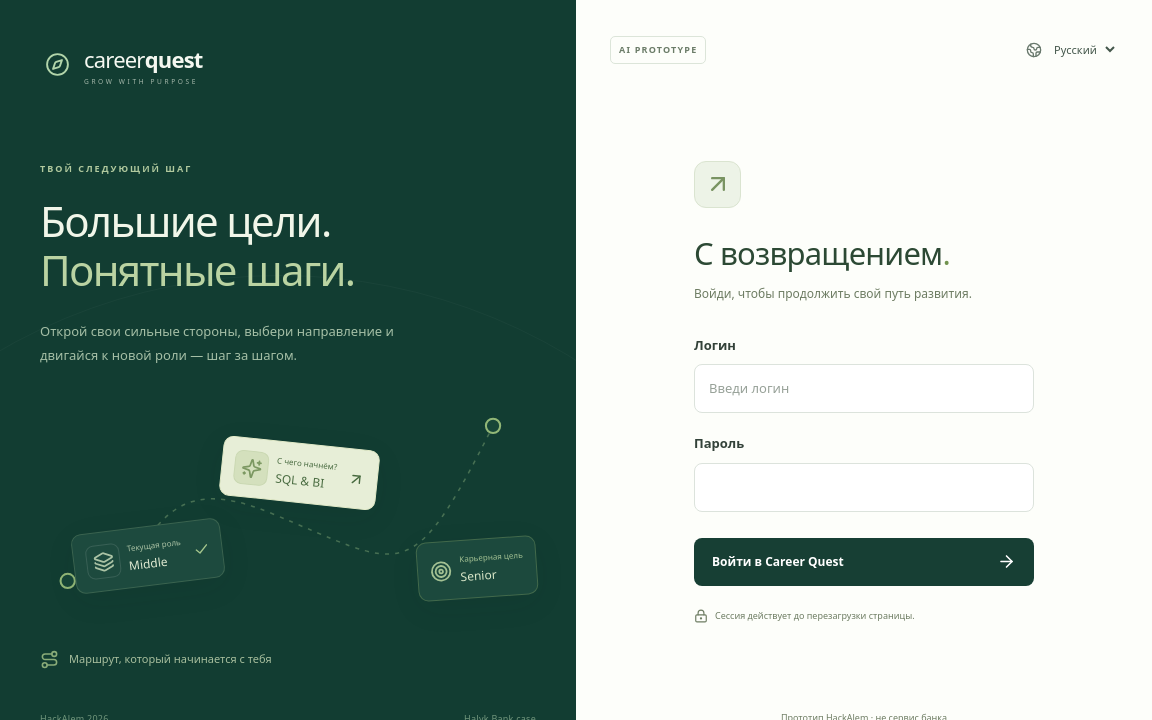
Scenario: user journeys against the HTTP boundary › shows timeout as an error without silently switching to demo mode
Type "employee" into the field labelled "Логин" at (864, 389), box [694, 364, 1034, 413]
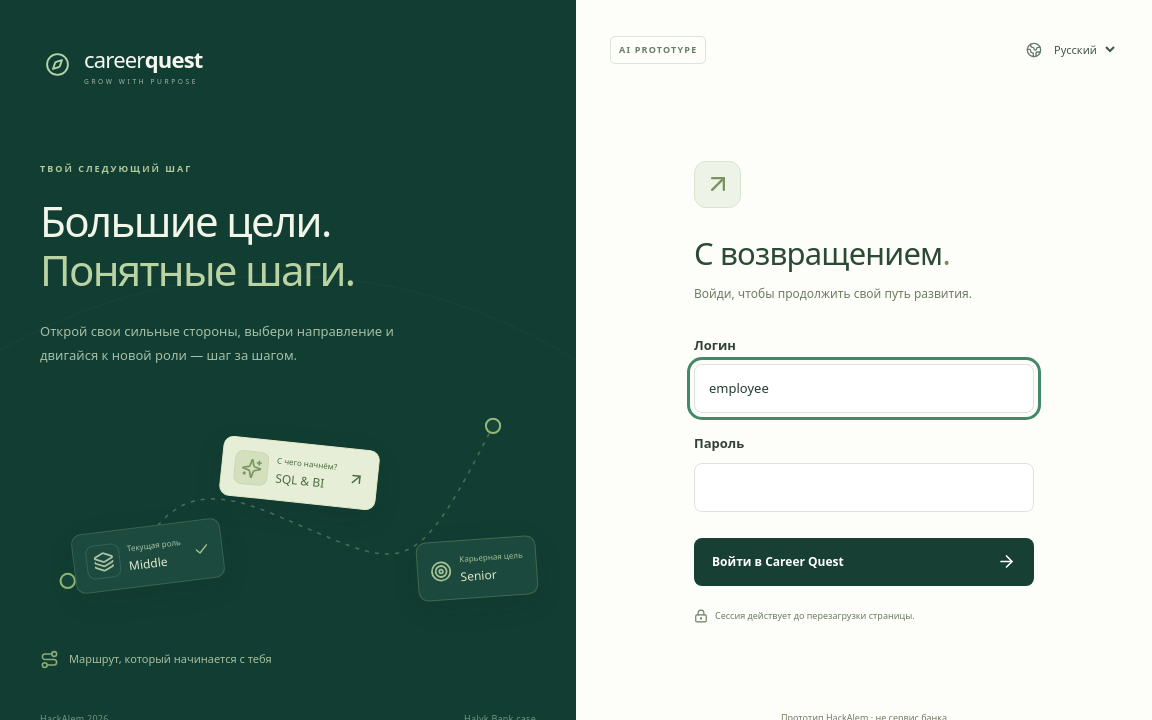
Type "demo123" into the password field labelled "Пароль" at (864, 487), box [694, 463, 1034, 512]
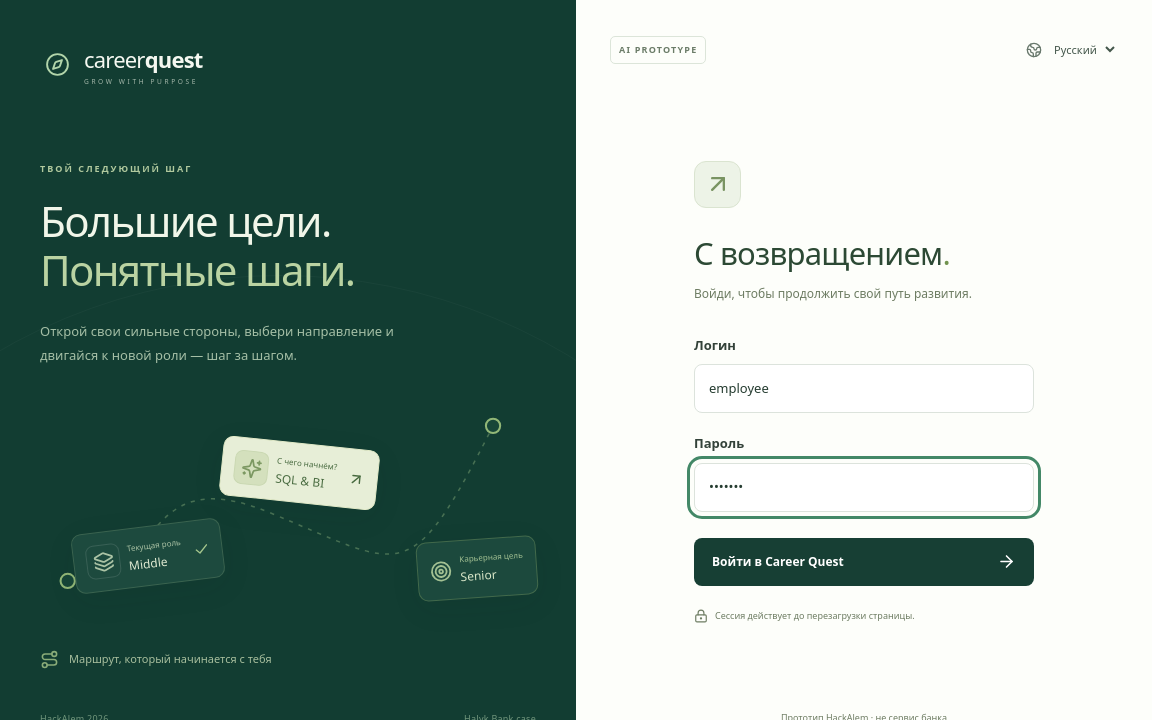
Click the button "Войти в Career Quest" at (778, 561), box [694, 538, 1034, 586]
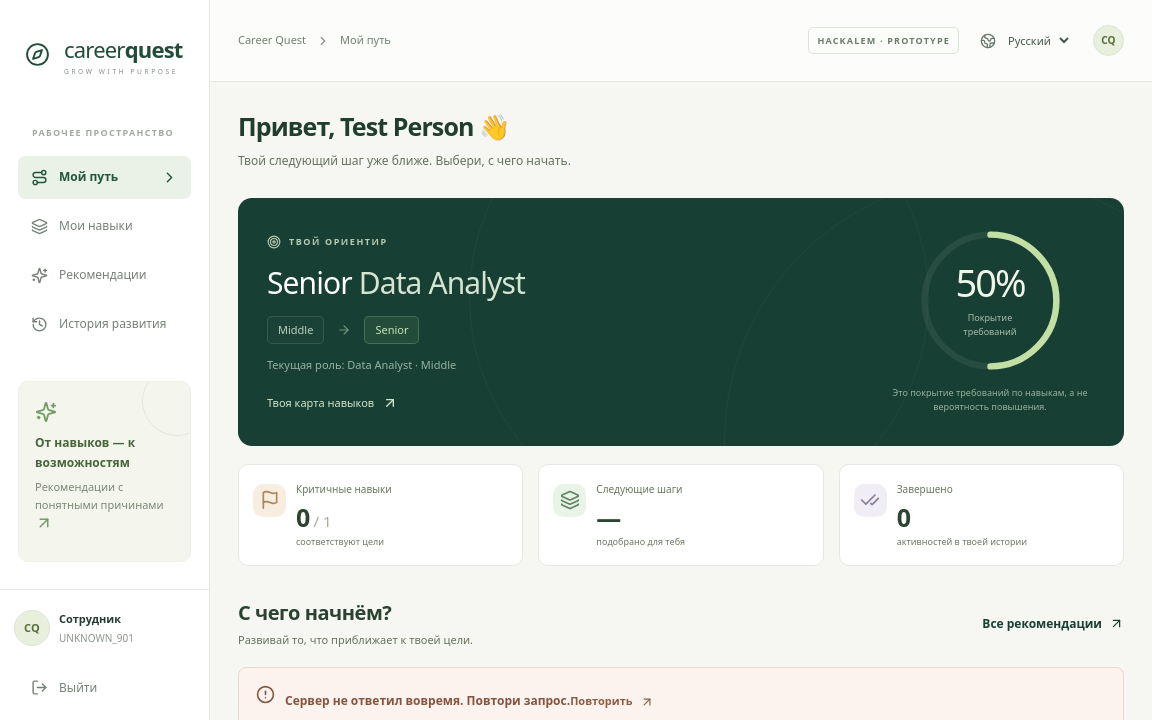
Expected: the text "Сервер не ответил вовремя. Повтори запрос." is shown, [285, 692, 570, 709]
